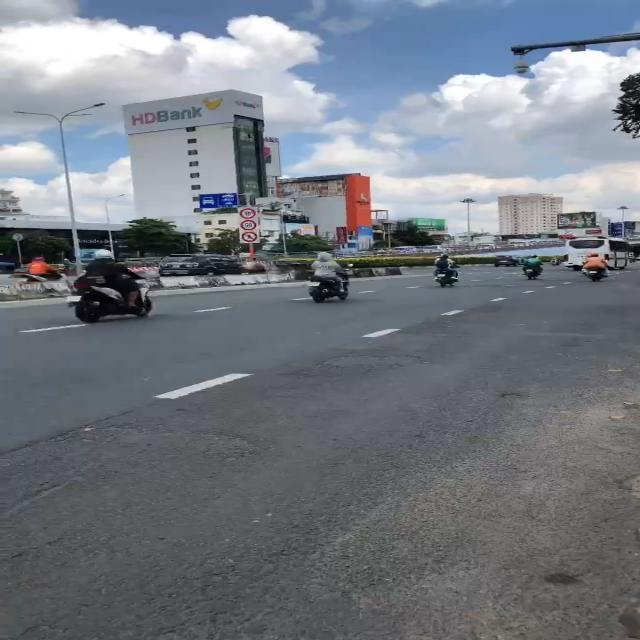Bien bao cam nguoi di bo: (240, 230, 260, 243)
Bien bao toc do toi da cho phep: (240, 220, 259, 230)
